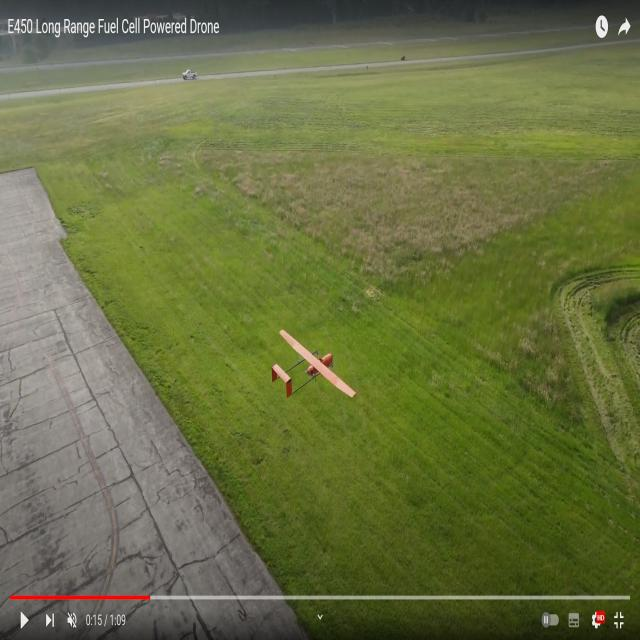iha: (294, 359, 327, 364)
